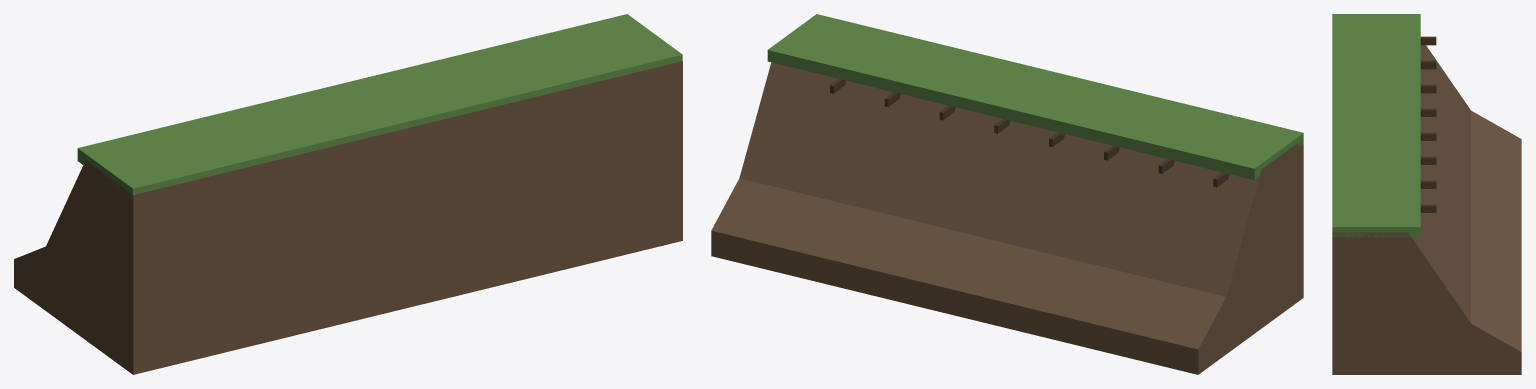
Rendered from f01-bank-earth-cut.glb.
3 views of the same model, side by side, from view 1: azimuth 30°, elevation 25°; view 2: azimuth 150°, elevation 25°; view 3: azimuth 270°, elevation 25° (orthographic). The views are drawn at different scales.
Visible parts, largest first — view 1: part0, part1; view 2: part0, part1, part2; view 3: part0, part1, part2.
Boxes of the visible parts, box(x1,y1,x2,y2) form: part0: box(14, 61, 682, 374); part1: box(77, 14, 682, 200); part0: box(711, 62, 1303, 374); part1: box(767, 14, 1303, 180); part2: box(830, 79, 1229, 187); part0: box(1332, 45, 1521, 374); part1: box(1332, 14, 1420, 237); part2: box(1420, 36, 1436, 212).
Bounding box in the file's own units: 8000 × 2590 × 3000.
